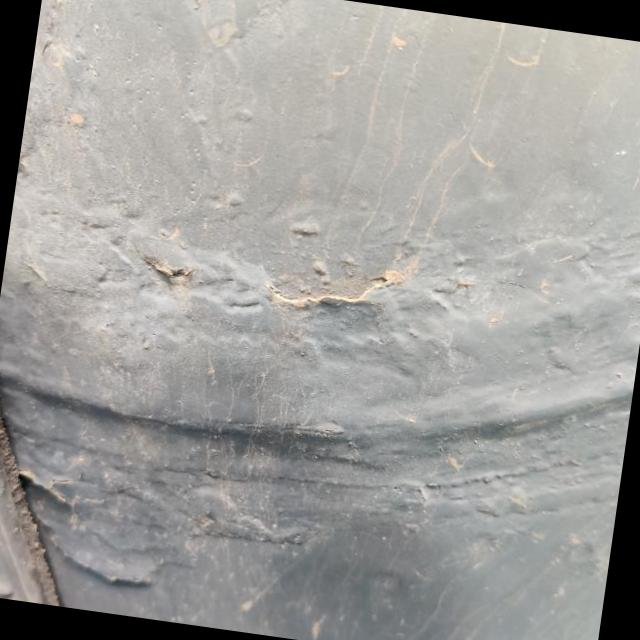Paint-off: (266, 258, 407, 310), (142, 254, 194, 286)
